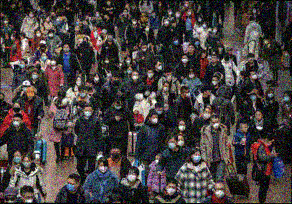mask_weared_incorrect: (202, 110, 211, 120), (106, 35, 113, 42)
with_mask: (214, 187, 226, 199), (165, 185, 177, 197), (65, 180, 76, 192), (191, 153, 202, 164), (126, 172, 137, 183), (97, 164, 108, 174), (22, 194, 34, 203), (210, 120, 220, 130), (110, 150, 120, 160), (21, 159, 31, 169), (12, 154, 21, 165), (248, 93, 258, 102), (167, 140, 176, 150), (83, 108, 92, 118), (12, 118, 21, 128), (3, 196, 15, 203), (249, 71, 258, 80), (150, 116, 159, 125), (12, 104, 21, 113), (178, 122, 186, 132), (283, 94, 291, 103), (265, 140, 274, 148), (176, 138, 184, 147), (131, 73, 139, 82), (113, 103, 122, 111), (267, 91, 275, 99), (111, 77, 119, 85), (74, 78, 82, 86), (21, 85, 29, 93), (184, 90, 191, 99), (162, 84, 169, 93), (154, 108, 163, 115), (146, 70, 153, 79), (76, 105, 83, 114), (31, 72, 38, 81), (18, 61, 25, 70), (185, 9, 193, 16), (156, 63, 163, 71), (165, 73, 173, 80), (140, 46, 148, 53), (143, 89, 150, 97), (85, 83, 92, 91), (78, 91, 86, 98), (34, 62, 41, 70), (237, 73, 243, 82), (262, 38, 269, 45), (211, 79, 218, 86), (181, 57, 188, 64), (126, 68, 133, 75), (62, 46, 69, 53), (154, 157, 160, 165), (40, 54, 46, 62), (183, 1, 189, 8), (201, 22, 207, 29), (211, 28, 217, 35), (163, 19, 169, 26), (173, 39, 179, 46), (188, 73, 195, 79), (131, 19, 137, 26), (144, 26, 150, 33), (125, 58, 131, 65), (103, 58, 110, 64), (93, 75, 99, 82), (50, 59, 56, 66), (39, 43, 46, 49), (251, 8, 257, 14), (224, 55, 230, 61), (174, 12, 180, 18), (194, 40, 200, 46), (102, 16, 108, 22), (82, 39, 88, 45), (65, 0, 71, 6), (48, 32, 54, 38), (35, 32, 41, 38), (2, 19, 8, 25), (84, 16, 89, 23), (75, 19, 80, 26), (50, 13, 55, 20), (26, 95, 33, 100), (9, 34, 14, 41), (197, 17, 202, 23), (217, 47, 223, 52), (167, 9, 172, 15), (150, 12, 155, 18), (122, 11, 127, 17), (24, 53, 29, 59), (36, 6, 41, 12), (95, 12, 100, 17), (28, 13, 33, 18), (18, 9, 23, 14), (50, 27, 54, 33), (131, 5, 135, 10), (134, 39, 138, 44), (106, 1, 111, 5), (88, 16, 92, 21), (158, 2, 161, 7), (141, 15, 145, 18)
without_mask: (254, 112, 263, 121), (247, 55, 254, 64), (241, 125, 248, 134), (187, 46, 194, 53), (211, 56, 217, 63), (205, 89, 211, 96), (201, 52, 207, 59), (227, 49, 233, 54), (172, 22, 177, 28), (74, 27, 79, 33), (101, 33, 107, 38), (92, 26, 97, 31), (45, 16, 49, 22), (10, 4, 14, 9), (0, 13, 4, 17)
